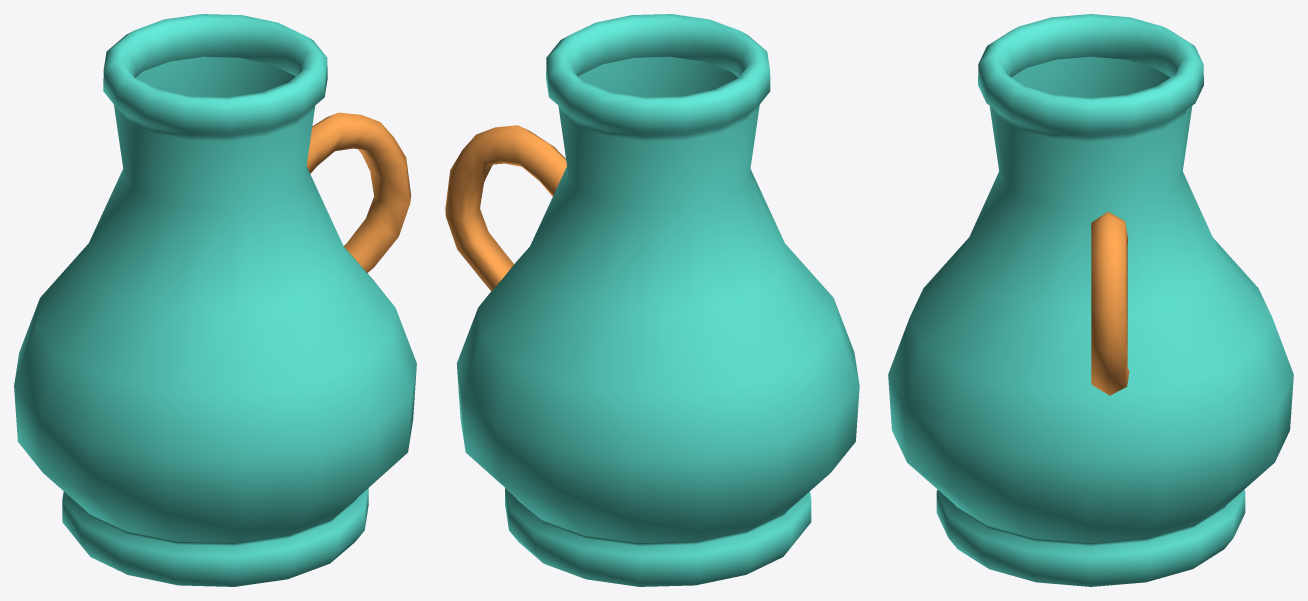
The model's file is Vase1.fbx.
3 views of the same model, side by side, from view 1: azimuth 30°, elevation 25°; view 2: azimuth 150°, elevation 25°; view 3: azimuth 270°, elevation 25° (orthographic).
Visible parts, largest first — view 1: Torus.071; view 2: Torus.071; view 3: Torus.071.
Boxes of the visible parts, left/top/right/bottom form: Torus.071: left=14, top=14, right=416, bottom=586; Torus.071: left=445, top=14, right=859, bottom=586; Torus.071: left=888, top=14, right=1293, bottom=586.
Size of the model in its own units: 341 by 402 by 316.
